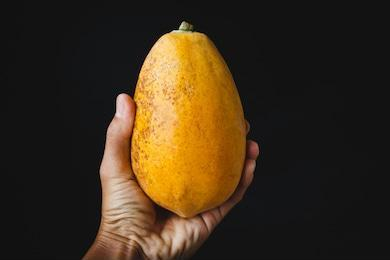papaya: (134, 21, 247, 215)
